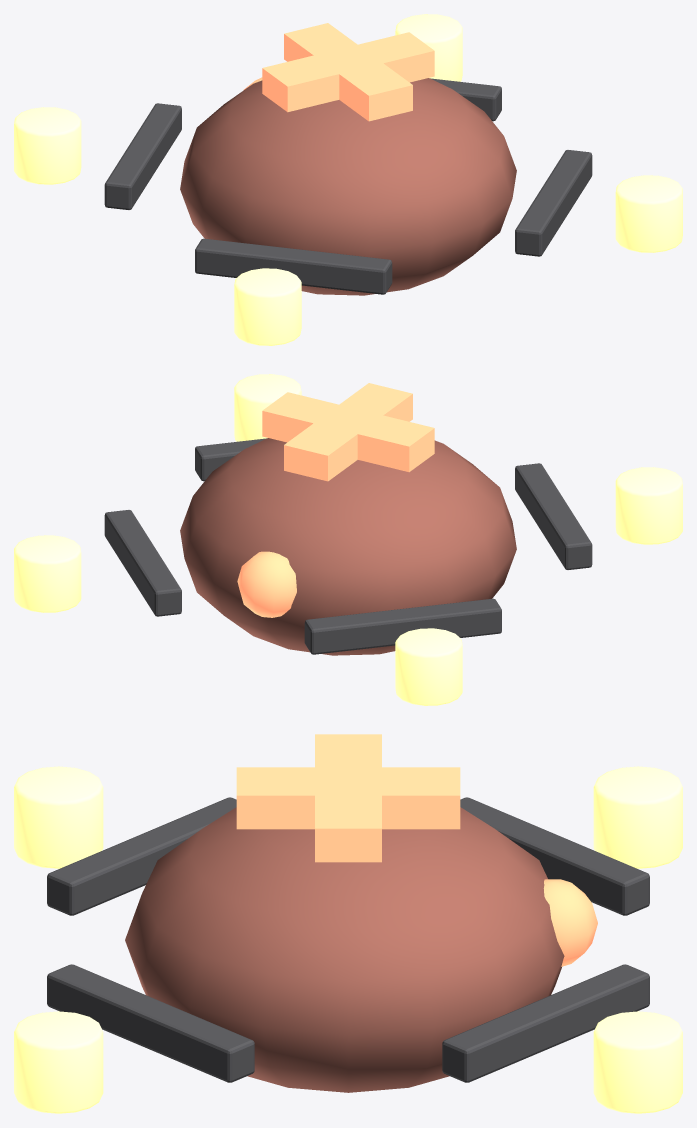
File: reparierer.glb
The picture shows the model from 3 angles, top to bottom: view 1: azimuth 30°, elevation 25°; view 2: azimuth 150°, elevation 25°; view 3: azimuth 270°, elevation 25°; orthographic projection. The views are drawn at different scales.
Parts seen in each view (by area): view 1: Koerper, Kreuz1, Arm2, Kreuz2, Duese2.001, Duese1.004, Duese3, Arm1.002, Arm3, Duese0.001, Arm0; view 2: Koerper, Kreuz1, Arm3, Kreuz2, Duese3, Duese0.001, Duese2.001, Arm0, Arm2, Auge.008, Duese1.004, Arm1.002; view 3: Koerper, Kreuz2, Arm0, Arm1.002, Duese0.001, Duese1.004, Duese2.001, Duese3, Kreuz1, Arm2, Arm3, Auge.008.
Boxes of the visible parts, left/top/right/bottom form: Koerper: left=180, top=78, right=516, bottom=295; Kreuz1: left=262, top=32, right=434, bottom=112; Arm2: left=195, top=238, right=392, bottom=294; Kreuz2: left=284, top=23, right=412, bottom=121; Duese2.001: left=234, top=268, right=301, bottom=345; Duese1.004: left=615, top=175, right=682, bottom=252; Duese3: left=14, top=107, right=81, bottom=184; Arm1.002: left=515, top=150, right=592, bottom=256; Arm3: left=104, top=103, right=181, bottom=209; Duese0.001: left=395, top=14, right=462, bottom=81; Arm0: left=430, top=78, right=501, bottom=121; Koerper: left=180, top=438, right=516, bottom=655; Kreuz1: left=262, top=392, right=434, bottom=472; Arm3: left=304, top=598, right=501, bottom=654; Kreuz2: left=284, top=383, right=412, bottom=481; Duese3: left=395, top=628, right=462, bottom=705; Duese0.001: left=14, top=535, right=81, bottom=612; Duese2.001: left=615, top=467, right=682, bottom=544; Arm0: left=104, top=510, right=181, bottom=616; Arm2: left=515, top=463, right=592, bottom=569; Auge.008: left=237, top=551, right=296, bottom=617; Duese1.004: left=234, top=374, right=301, bottom=441; Arm1.002: left=195, top=438, right=266, bottom=481; Koerper: left=125, top=807, right=564, bottom=1092; Kreuz2: left=236, top=767, right=460, bottom=829; Arm0: left=442, top=964, right=649, bottom=1082; Arm1.002: left=47, top=964, right=254, bottom=1082; Duese0.001: left=593, top=1011, right=682, bottom=1113; Duese1.004: left=14, top=1011, right=103, bottom=1113; Duese2.001: left=14, top=766, right=103, bottom=868; Duese3: left=593, top=766, right=682, bottom=868; Kreuz1: left=315, top=734, right=381, bottom=862; Arm2: left=47, top=797, right=236, bottom=915; Arm3: left=460, top=797, right=649, bottom=915; Auge.008: left=543, top=879, right=597, bottom=966.
Bounding box in the file's own units: 1.8 × 0.83 × 1.8.
